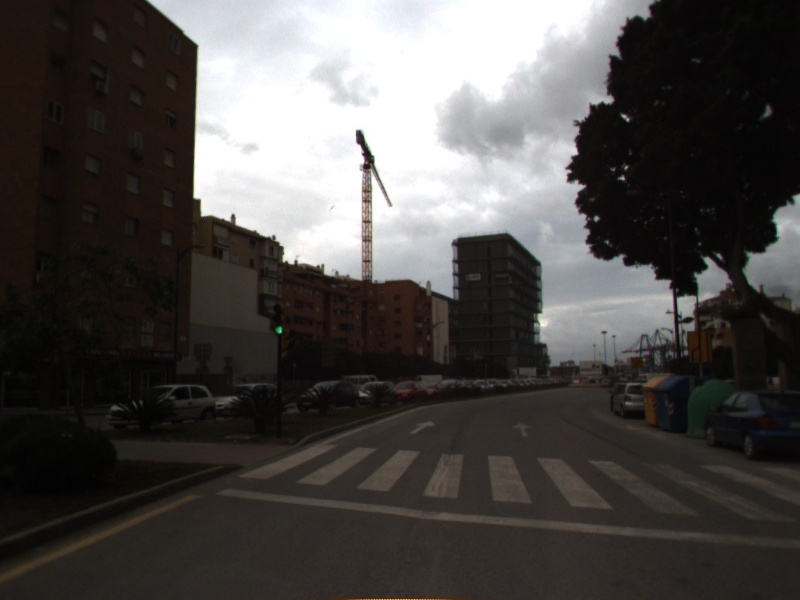STRAIGHT: (407, 419, 437, 436), (510, 421, 535, 439)
